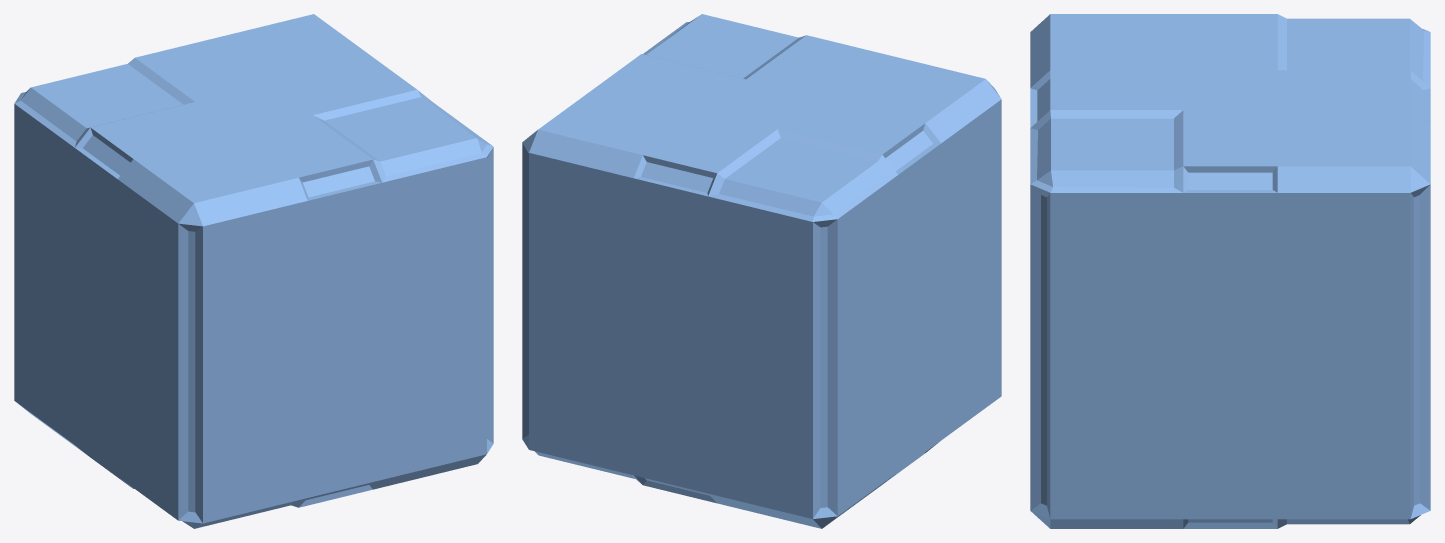
The model's file is CyberpunkCube_Whole.FBX.
The picture shows the model from 3 angles, left to right: view 1: azimuth 30°, elevation 25°; view 2: azimuth 150°, elevation 25°; view 3: azimuth 270°, elevation 25°; orthographic projection. The views are drawn at different scales.
Parts seen in each view (by area): view 1: CyberCube; view 2: CyberCube; view 3: CyberCube.
Boxes of the visible parts, x1=… form: CyberCube: x1=14, y1=14, x2=493, y2=528; CyberCube: x1=522, y1=14, x2=1001, y2=528; CyberCube: x1=1030, y1=14, x2=1430, y2=528.
Size of the model in its own units: 0.4 by 0.4 by 0.4.
